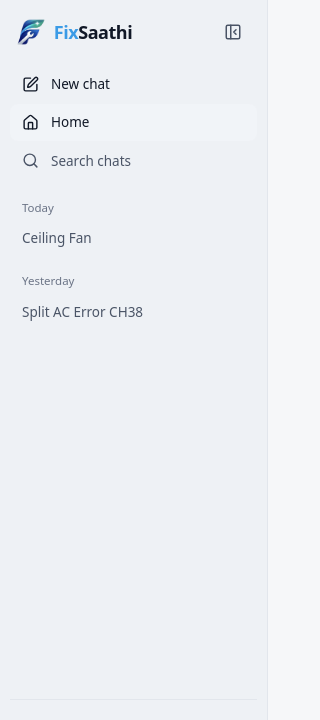
Scenario: chat history sidebar › searches on the server
expect the link "Ceiling Fan" is shown: met, box [22,229,92,247]
Click the button "Search chats". click: (134, 161)
box: [10,142,257,179]
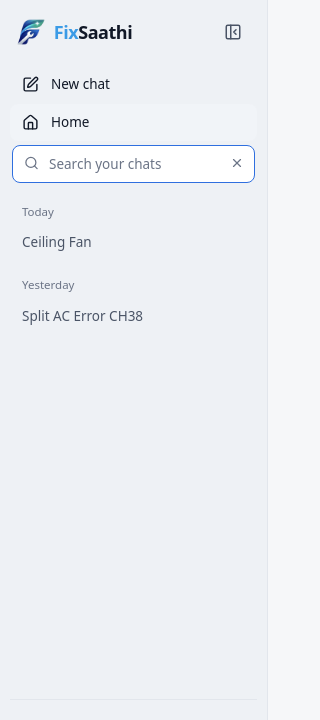
Type "ch38" into the field named "Search chats". click: (134, 164)
box: [12,144,255,183]
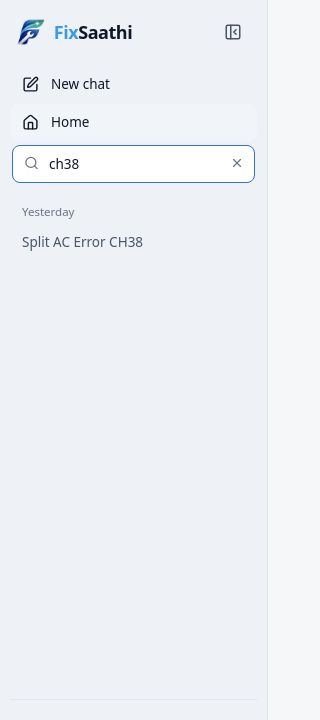
expect the link "Split AC Error CH38" is shown: met, box [22,233,143,251]
expect the link "Ceiling Fan" is gone: met
